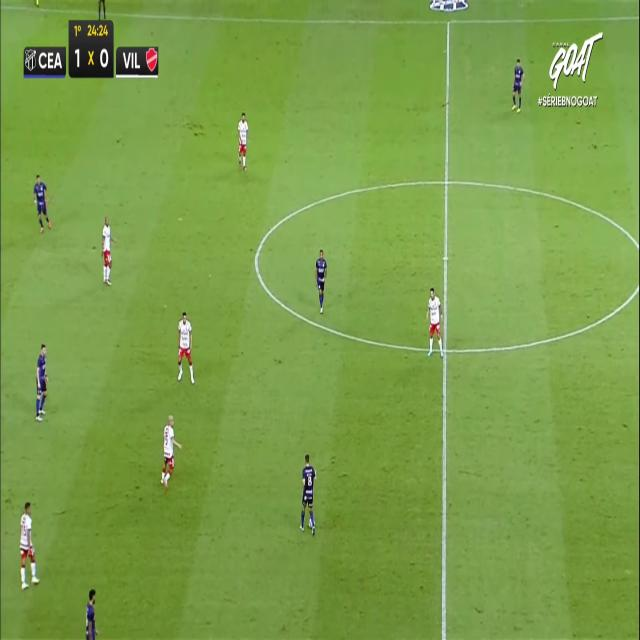ball: (308, 514, 316, 534)
player: (20, 500, 39, 587), (161, 415, 182, 486), (300, 453, 316, 534), (177, 310, 194, 383), (34, 173, 52, 232), (427, 286, 442, 356), (102, 216, 117, 285), (35, 343, 48, 421), (314, 248, 327, 314), (84, 588, 99, 639), (511, 57, 523, 112), (237, 111, 248, 169)
